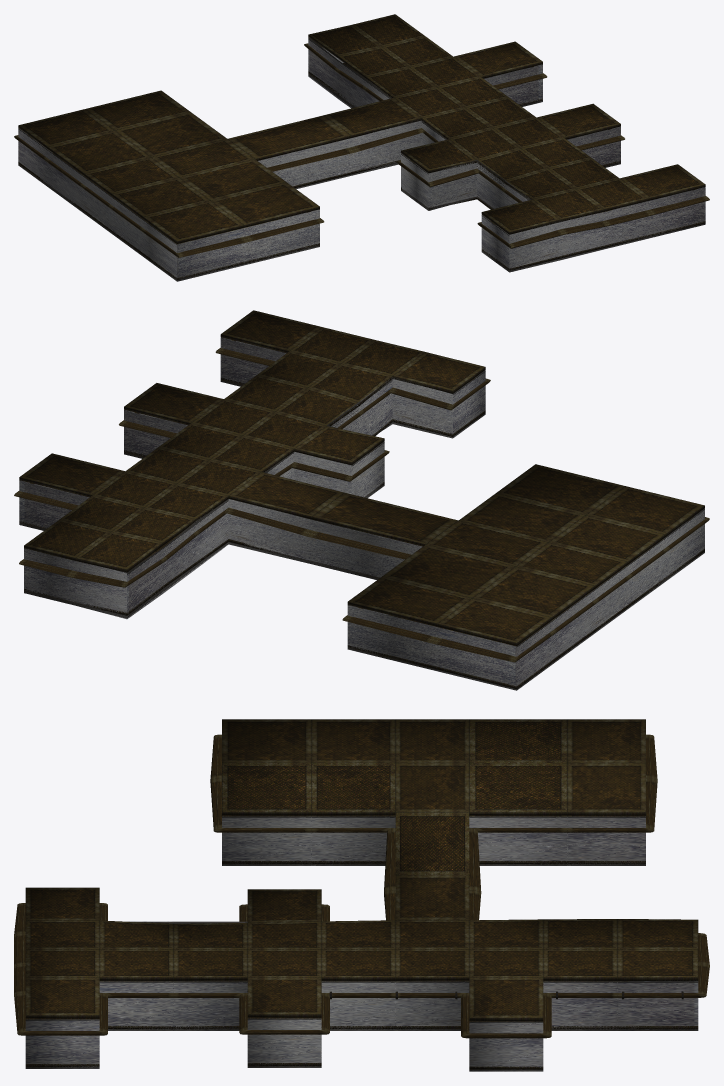
Rendered from level_01.fbx.
3 renders of one model, top to bottom at view 1: azimuth 30°, elevation 25°; view 2: azimuth 150°, elevation 25°; view 3: azimuth 270°, elevation 25°, orthographic. The views are drawn at different scales.
Visible parts, largest first — view 1: Floor, Walls, Pipes; view 2: Floor, Walls, Pipes; view 3: Floor, Walls, Pipes.
Part boxes in pixels (<box>): Floor: <box>18,14,705,279</box>; Walls: <box>18,37,705,281</box>; Pipes: <box>14,43,709,257</box>; Floor: <box>19,310,704,688</box>; Walls: <box>19,337,704,690</box>; Pipes: <box>14,340,709,662</box>; Floor: <box>25,719,698,1069</box>; Walls: <box>25,816,698,1071</box>; Pipes: <box>14,734,709,1038</box>.
Size of the model in its own units: 15082 by 1348 by 14764.
